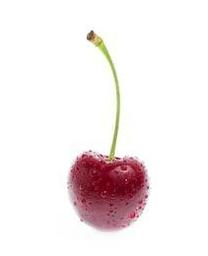cherry: (67, 152, 150, 233)
